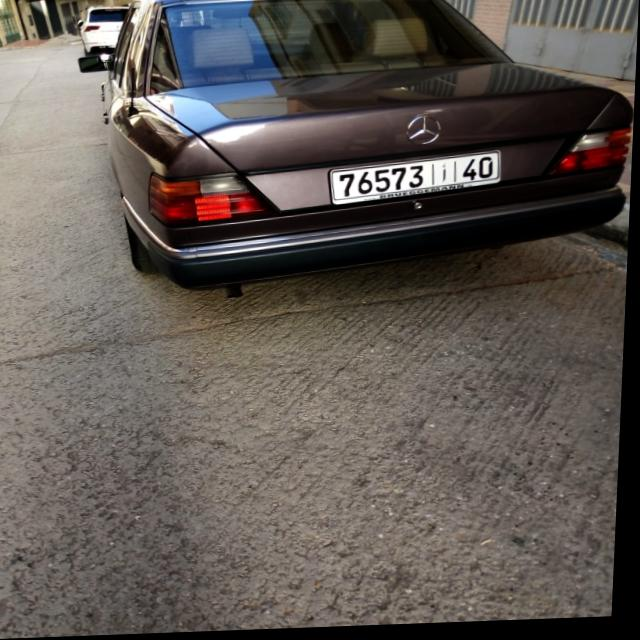License-Plate: (332, 154, 502, 207)
